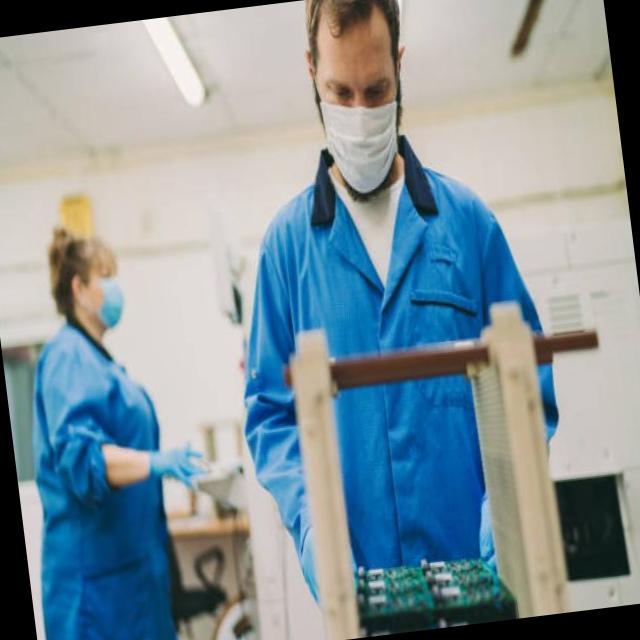Gloves: (142, 436, 211, 494)
